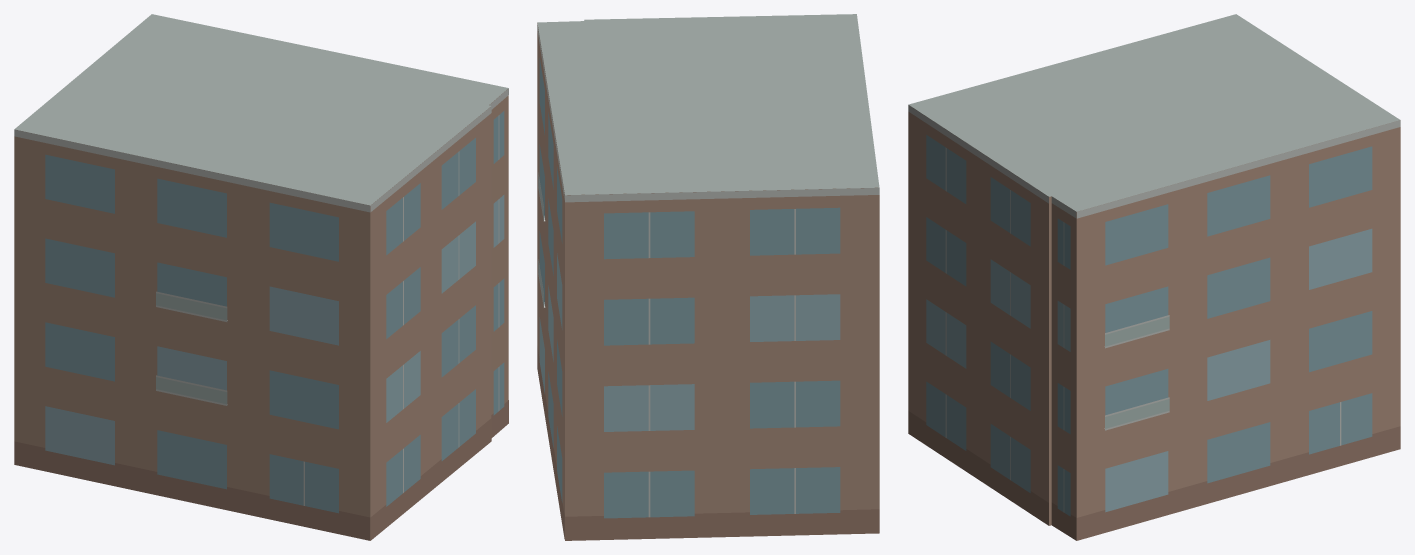
The model's file is survey-upis-32974347.glb.
3 renders of one model, left to right at view 1: azimuth 30°, elevation 25°; view 2: azimuth 150°, elevation 25°; view 3: azimuth 270°, elevation 25°, orthographic. The views are drawn at different scales.
Visible parts, largest first — view 1: survey-upis-32974347.tmp; view 2: survey-upis-32974347.tmp; view 3: survey-upis-32974347.tmp.
Boxes of the visible parts, <box> form: survey-upis-32974347.tmp: <box>14,14,508,540</box>; survey-upis-32974347.tmp: <box>537,14,879,540</box>; survey-upis-32974347.tmp: <box>908,14,1400,540</box>.
Size of the model in its own units: 15.1 by 11.7 by 15.87.
